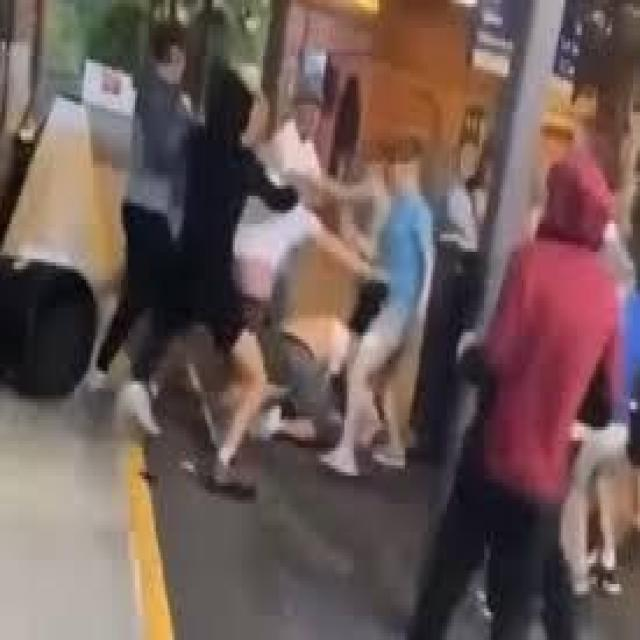fight: (133, 19, 428, 484), (453, 133, 613, 612)
